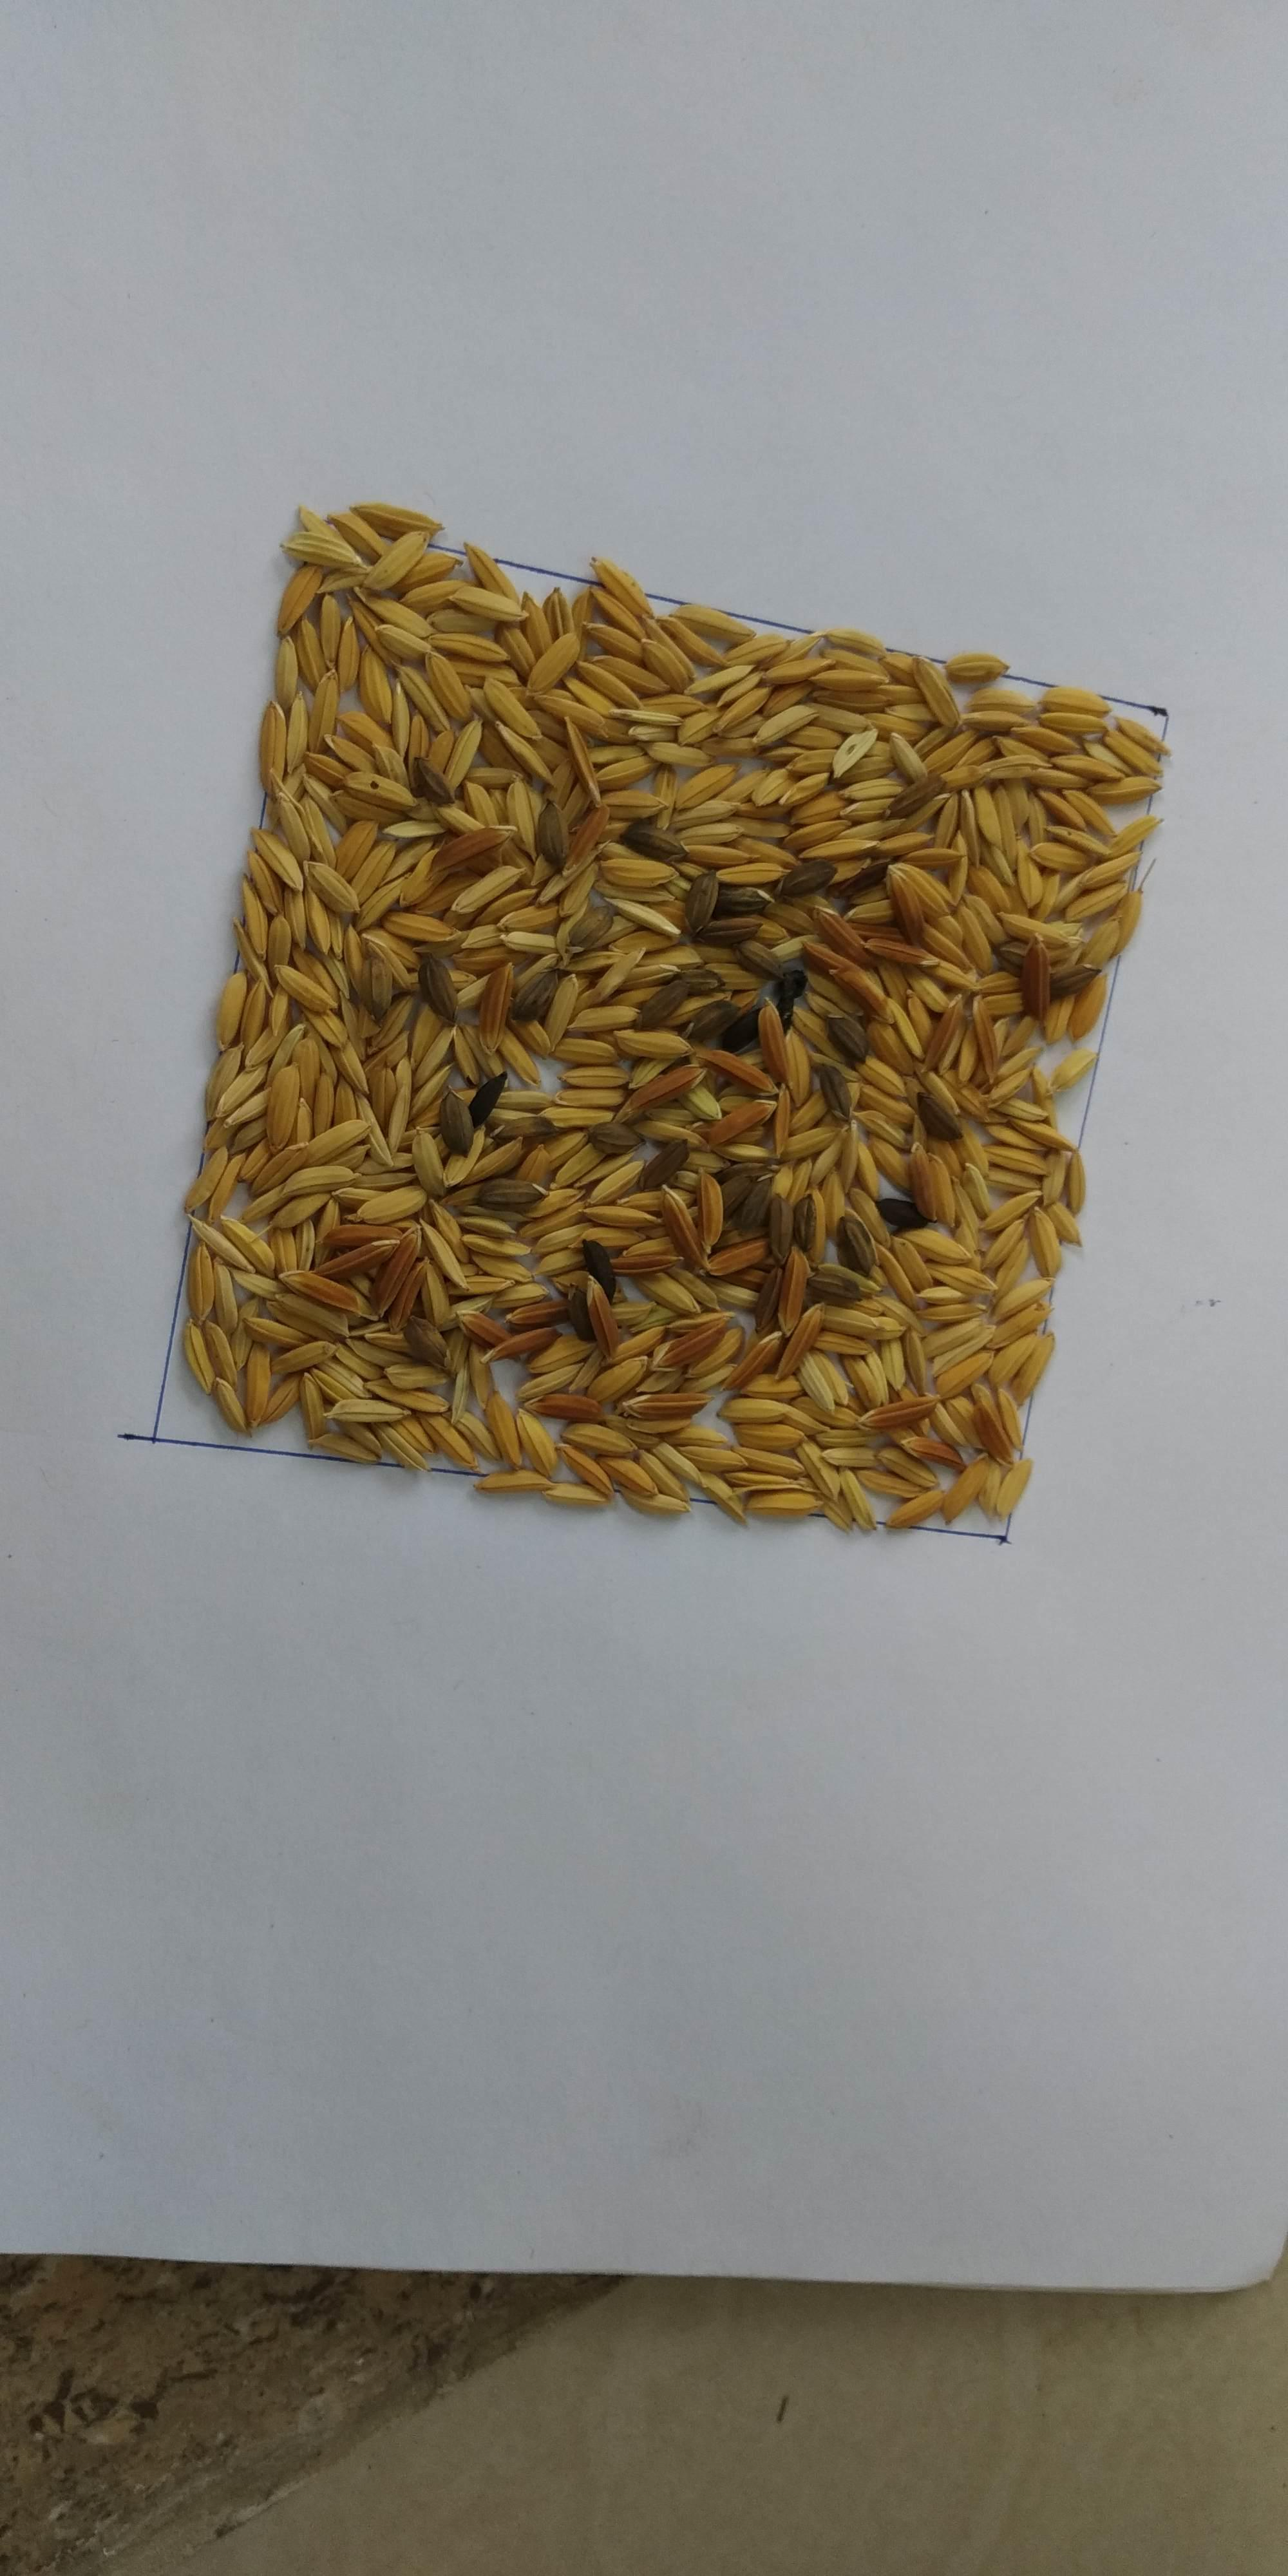impure: (292, 713, 1022, 1446)
